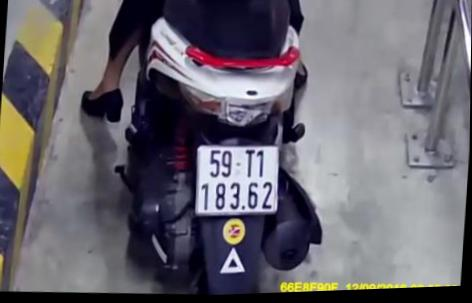LP: (191, 141, 286, 221)
